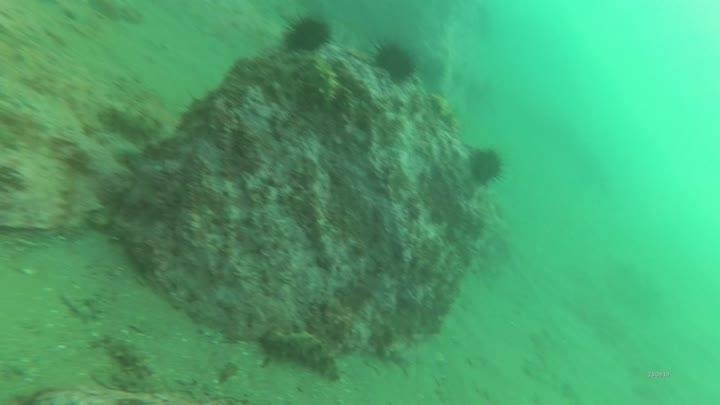echinus: (279, 13, 335, 55), (369, 38, 419, 85), (465, 145, 507, 188)
holothurian: (255, 325, 345, 382), (99, 324, 162, 382), (97, 99, 176, 144), (305, 54, 344, 111)
